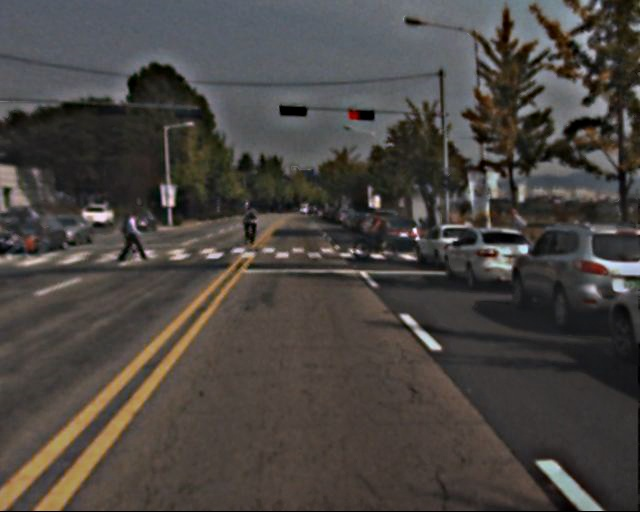person: (121, 208, 144, 265), (19, 213, 50, 251), (367, 208, 387, 256), (242, 205, 260, 250)
